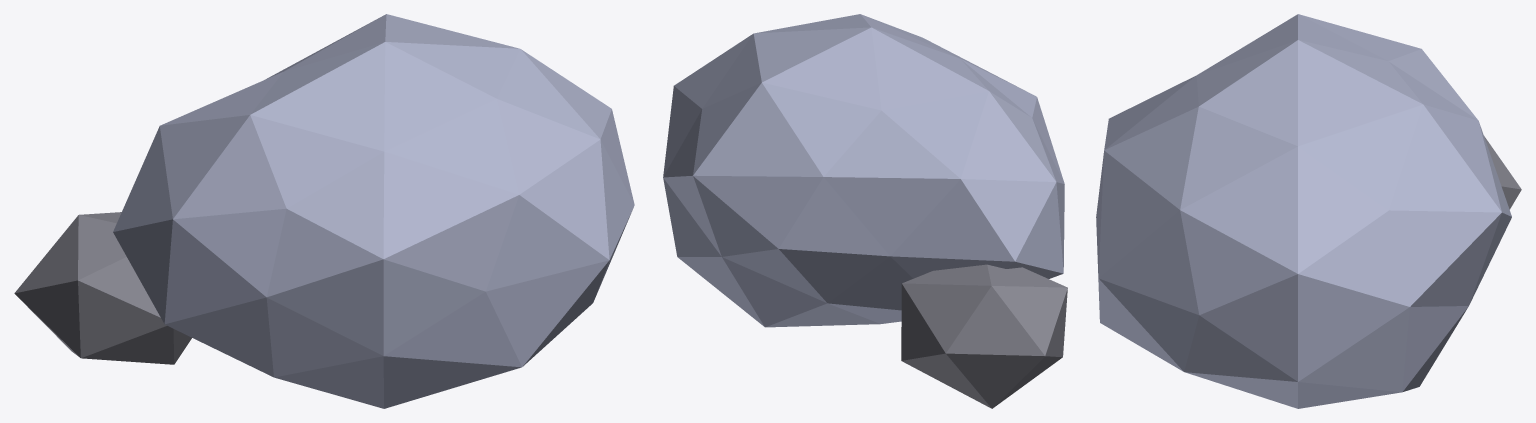
File: Rock.fbx
3 views of the same model, side by side, from view 1: azimuth 30°, elevation 25°; view 2: azimuth 150°, elevation 25°; view 3: azimuth 270°, elevation 25° (orthographic). The views are drawn at different scales.
Parts seen in each view (by area): view 1: Rock; view 2: Rock; view 3: Rock.
Boxes of the visible parts, bbox=[...] form: Rock: bbox=[14, 14, 634, 408]; Rock: bbox=[663, 14, 1067, 408]; Rock: bbox=[1096, 14, 1521, 408].
Size of the model in its own units: 4.69 by 2.87 by 3.36.
1 material, 1 textured.
